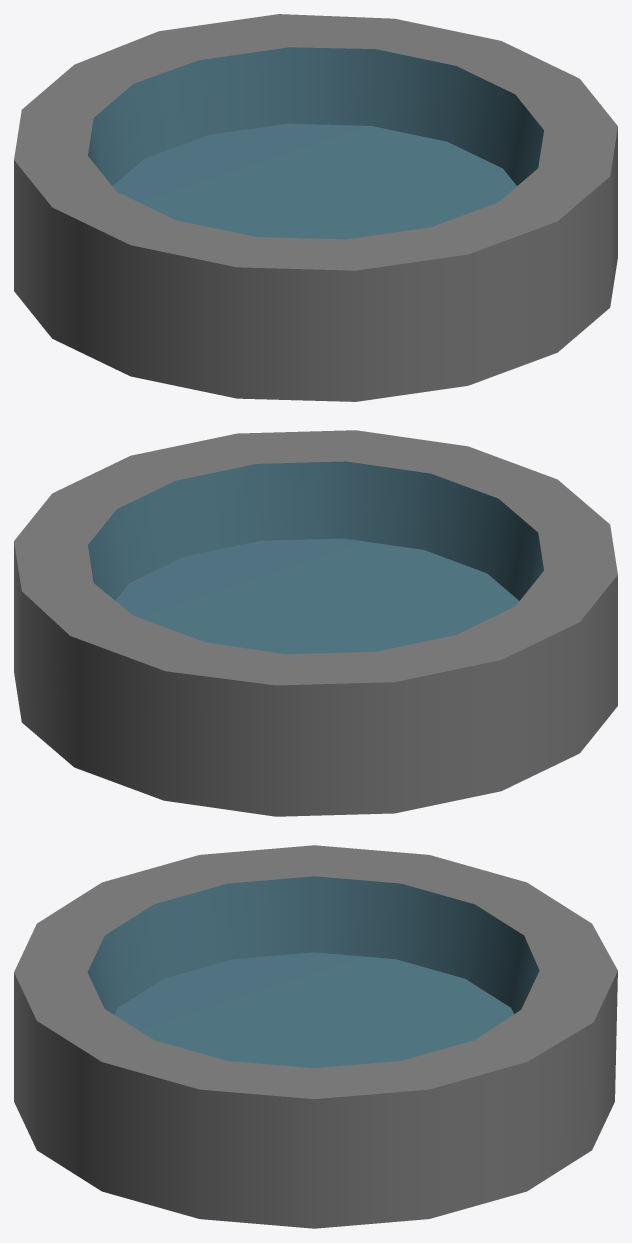
File: Park_Fountain.fbx
3 views of the same model, one above another, from view 1: azimuth 30°, elevation 25°; view 2: azimuth 150°, elevation 25°; view 3: azimuth 270°, elevation 25° (orthographic).
Visible parts, largest first — view 1: pCylinder3; view 2: pCylinder3; view 3: pCylinder3.
Boxes of the visible parts, x1=… form: pCylinder3: x1=14, y1=14, x2=617, y2=401; pCylinder3: x1=14, y1=430, x2=617, y2=816; pCylinder3: x1=14, y1=845, x2=617, y2=1228.
Size of the model in its own units: 1.24 by 0.2938 by 1.24.
